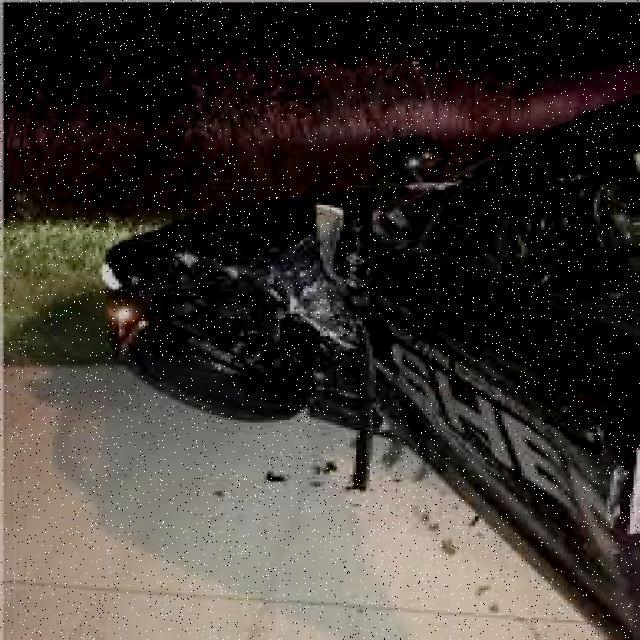car damage: (100, 200, 384, 448)
